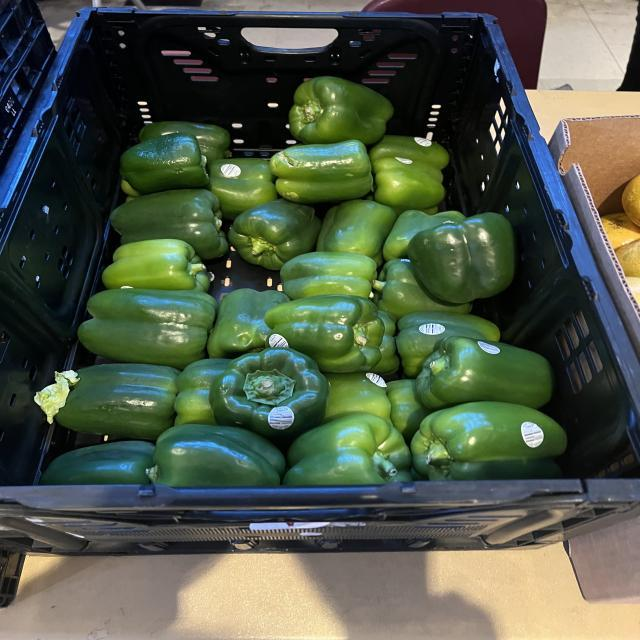Bell Pepper: (412, 401, 567, 481), (208, 348, 330, 446), (78, 289, 215, 369), (415, 336, 553, 410), (408, 212, 515, 304), (55, 364, 180, 440), (265, 295, 383, 372), (283, 414, 410, 485), (148, 424, 285, 486), (110, 189, 228, 260), (288, 76, 393, 144), (397, 311, 500, 378), (228, 199, 322, 270), (270, 140, 373, 204), (372, 259, 472, 319), (207, 289, 290, 359), (102, 239, 210, 291), (120, 132, 208, 195), (317, 199, 397, 266), (40, 441, 155, 485), (280, 251, 377, 300), (372, 156, 445, 215), (207, 158, 277, 219), (383, 210, 465, 261), (138, 121, 232, 162), (323, 372, 392, 424), (368, 135, 450, 170)
